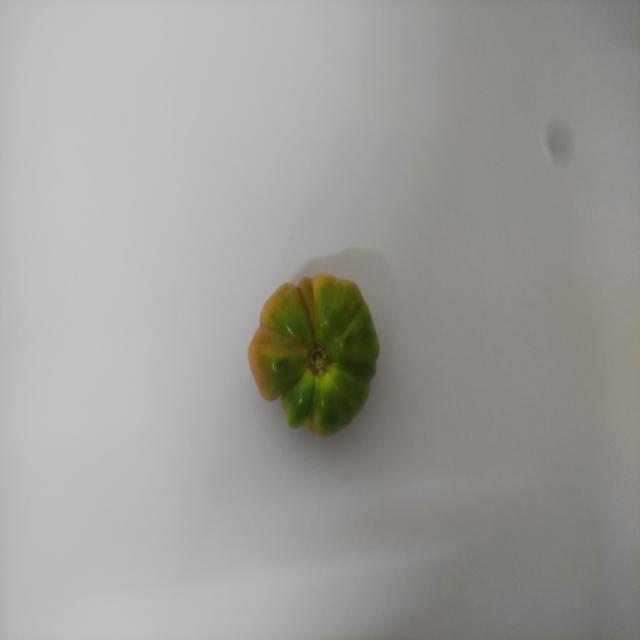yesil: (242, 266, 390, 440)
